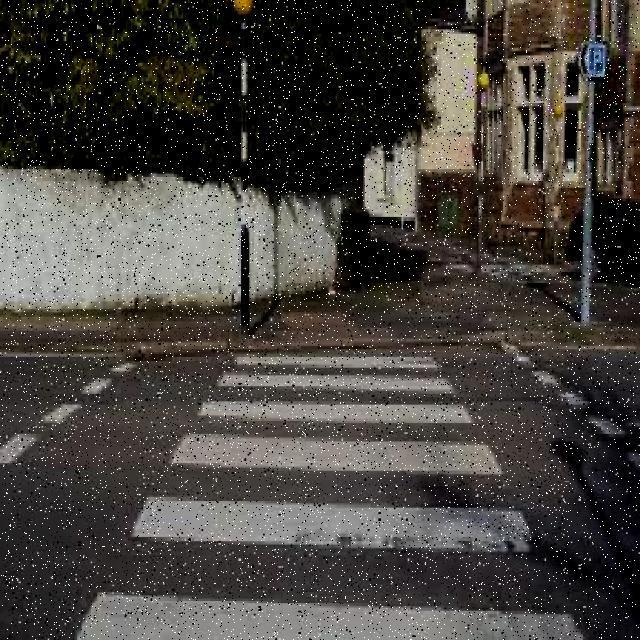Pedestrian crosswalk: (74, 346, 597, 637)
